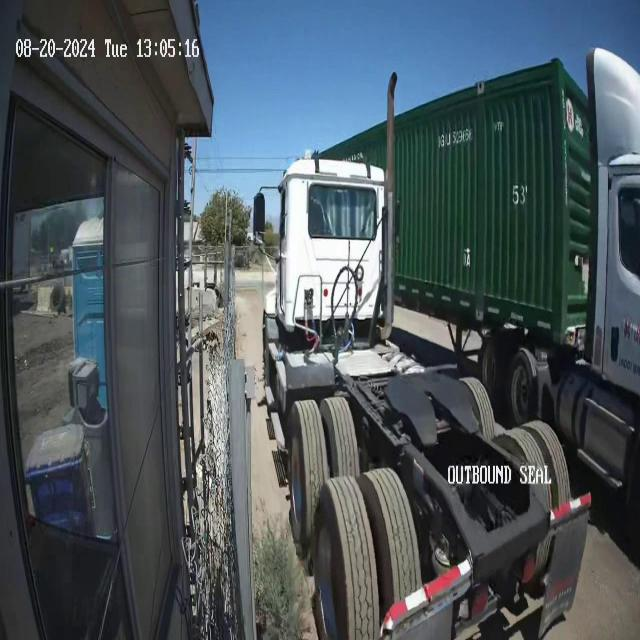TRUCK_IN: (315, 56, 640, 543)
TRUCK_OUT: (236, 138, 599, 640)
